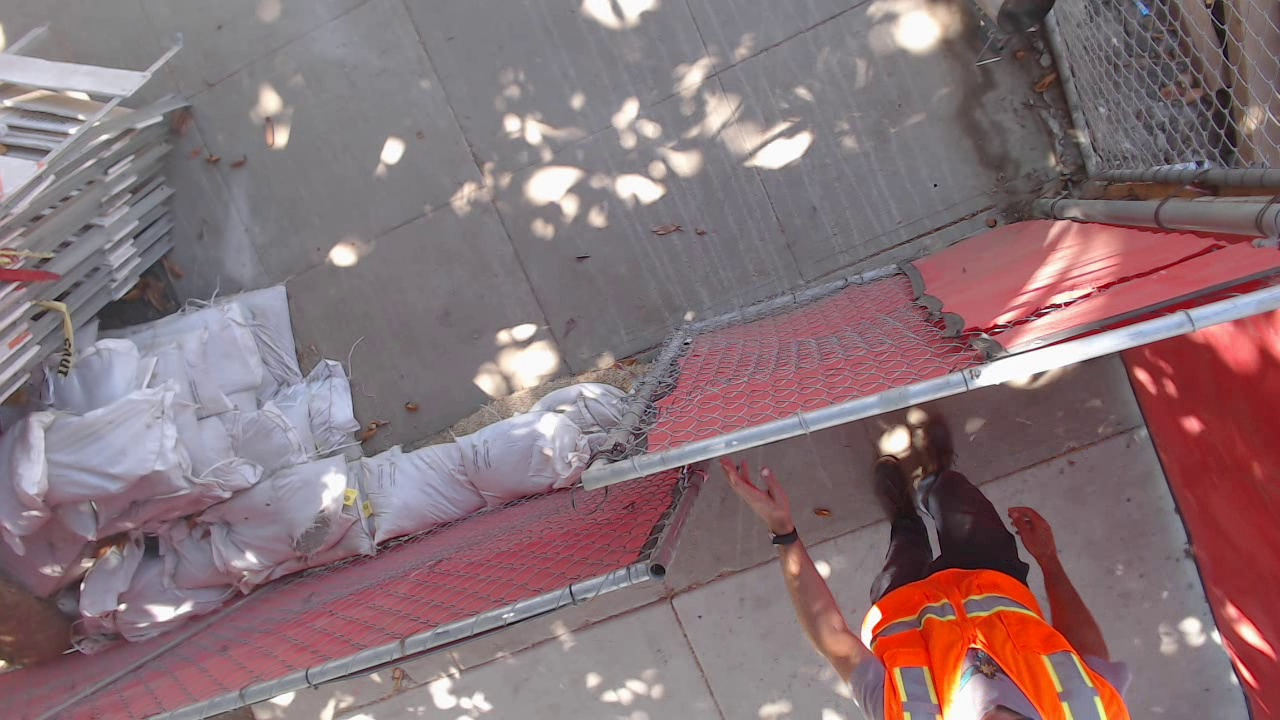hardhat: (935, 617, 1098, 720)
person: (812, 455, 1117, 720)
safetyvest: (845, 481, 1119, 709)
